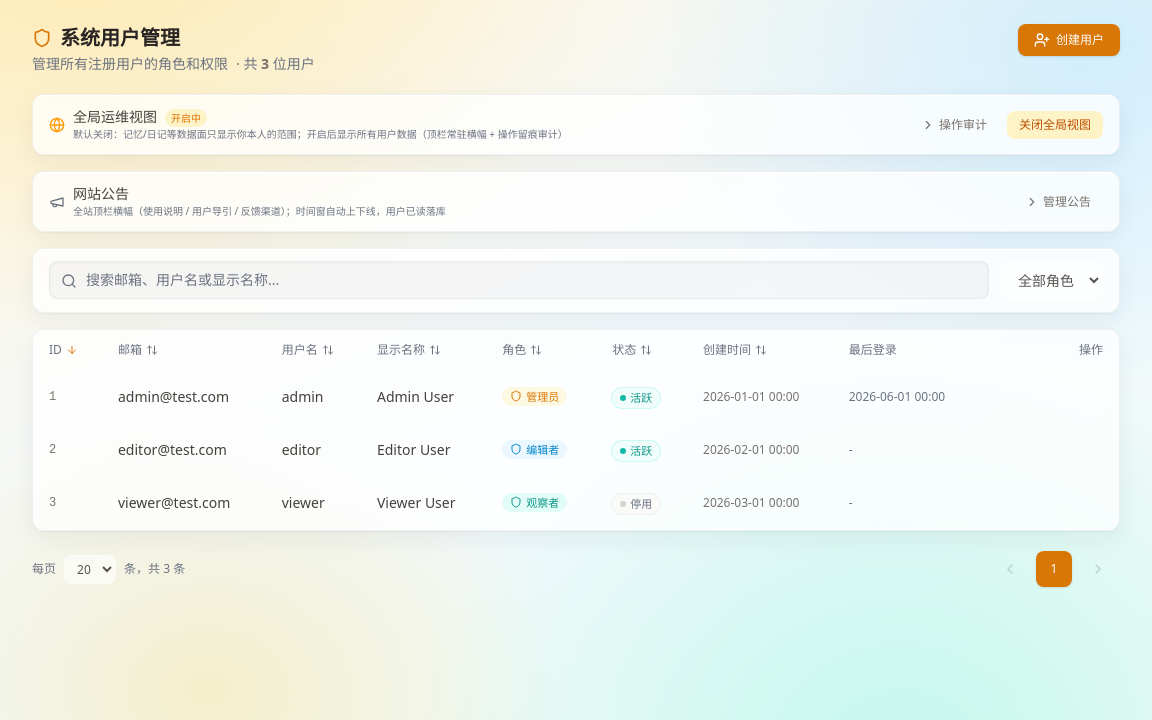
Test case: AdminUsersPage 批 3 增量 › 操作审计面板展开后渲染审计条目（动作中文化）
Expected: the text "admin@test.com" is shown, top-left (102, 370), bottom-right (266, 424)
Click the button "操作审计" at (954, 124), box top-left (909, 110), bottom-right (999, 138)
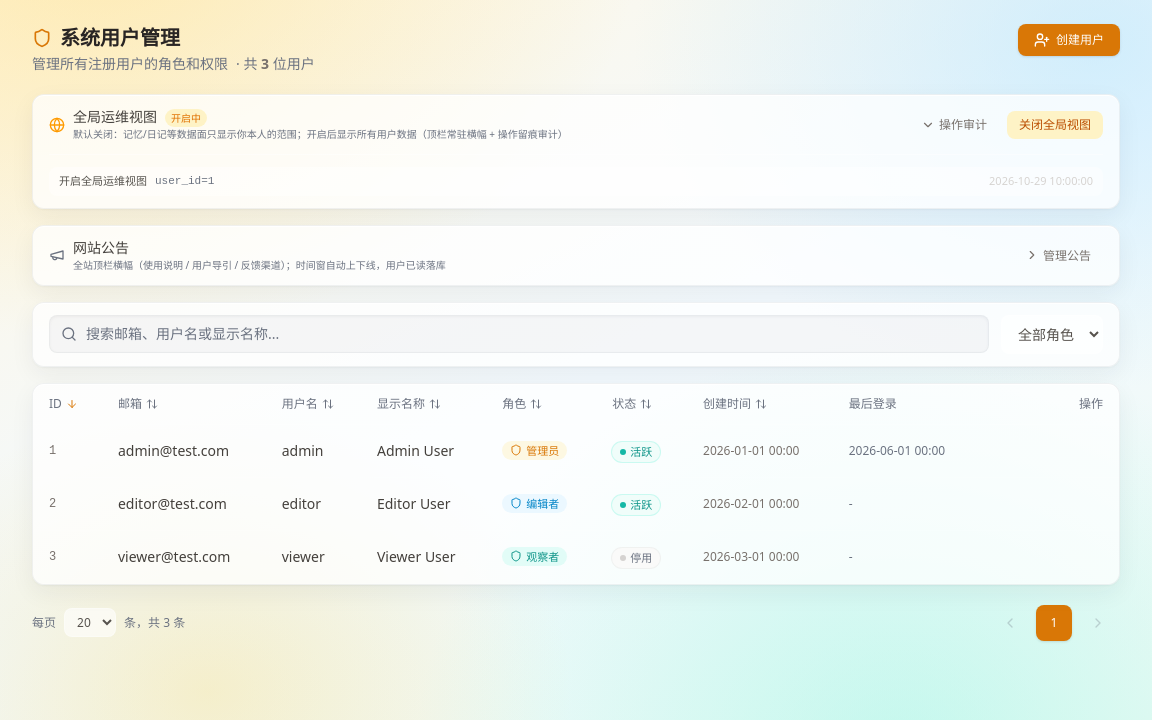
Result: the text "开启全局运维视图" is shown at top-left (59, 173), bottom-right (147, 190)
